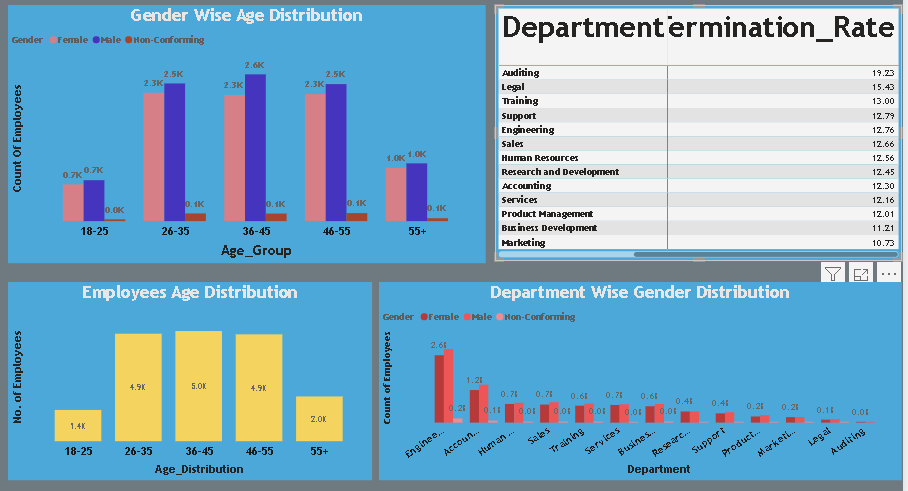

This screenshot's page, from the dashboard's own definition file:
{"tool":"powerbi","page":{"name":"Page 2","canvas":[1280,720],"ordinal":1},"visuals":[{"type":"columnChart","title":"Employees Age Distribution","fields":{"Category":["Age_Distribution.Column1"],"Y":["Sum(Age_Distribution.Column2)"]},"box":[12.8,415.3,515.9,280.6],"z":0},{"type":"clusteredColumnChart","title":"Gender Wise Age Distribution","fields":{"Category":["Age_Gender_Distribution.Column1"],"Series":["Age_Gender_Distribution.Column2"],"Y":["Sum(Age_Gender_Distribution.Column3)"]},"box":[12.8,22.7,677.5,365.7],"z":1000},{"type":"pivotTable","fields":{"Rows":["Termination_rate.Column1"],"Values":["Sum(Termination_rate.Column4)"]},"box":[703,22.7,576.9,363],"z":2000},{"type":"clusteredColumnChart","title":"Department Wise Gender Distribution","fields":{"Y":["Sum(Gender_department.Column3)"],"Category":["Gender_department.Column2"],"Series":["Gender_department.Column1"]},"box":[538.6,415.3,741.3,280.6],"z":2001}]}

Visuals, with their boxes on the page's 1280x720 design canvas (x1, y1, x2, y2). These are canvas units, not pixel positions in the 908x491 screenshot, which may show the page scaled, cropped or inside an application window:
"Employees Age Distribution" columnChart: [x1=13, y1=415, x2=529, y2=696]
"Gender Wise Age Distribution" clusteredColumnChart: [x1=13, y1=23, x2=690, y2=388]
pivotTable - Termination_rate.Column1 x Sum(Termination_rate.Column4): [x1=703, y1=23, x2=1280, y2=386]
"Department Wise Gender Distribution" clusteredColumnChart: [x1=539, y1=415, x2=1280, y2=696]
